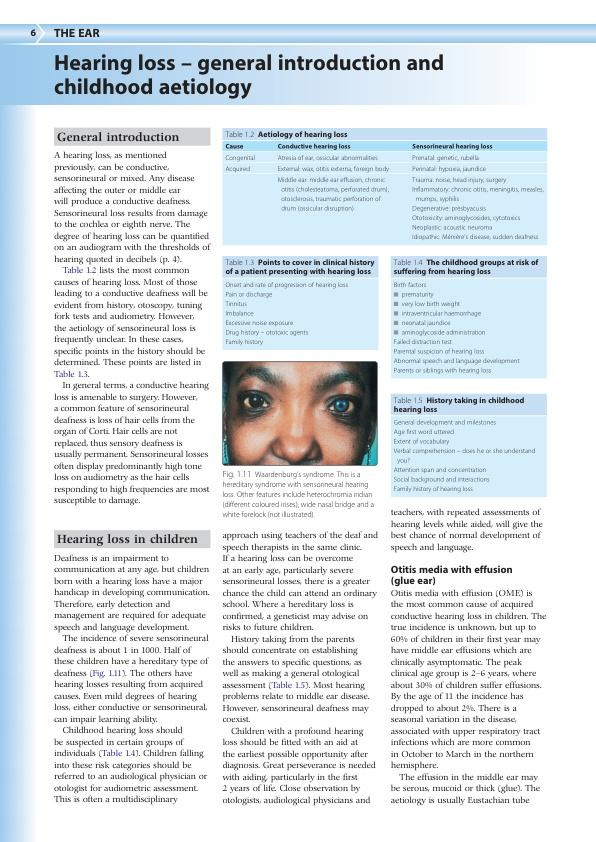caption: (221, 469, 375, 519), (223, 258, 376, 278), (392, 257, 541, 277), (392, 396, 525, 414), (224, 130, 348, 140)
chapter-heading: (51, 52, 445, 100)
header: (53, 27, 100, 38)
image: (221, 360, 379, 467)
section-heading: (56, 533, 199, 547), (56, 130, 180, 143)
sub-section-heading: (389, 563, 514, 587)
table: (222, 141, 547, 246), (390, 279, 547, 379), (391, 415, 547, 498), (222, 278, 378, 349)
text: (52, 150, 214, 507), (220, 529, 380, 807), (52, 552, 210, 808), (389, 588, 547, 806), (390, 507, 543, 553)
